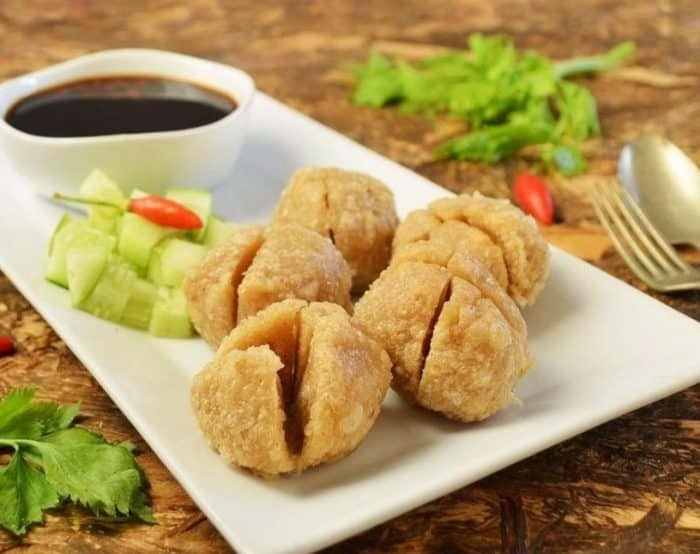pempek: (184, 163, 551, 477)
